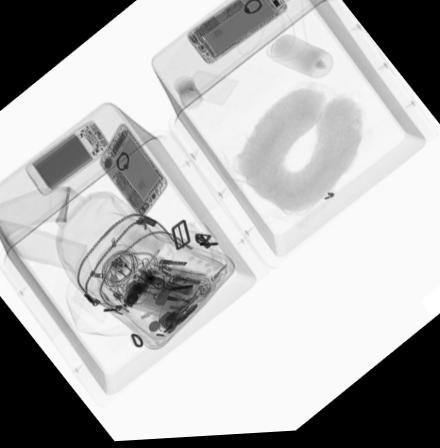Powerbank: (21, 121, 112, 197)
